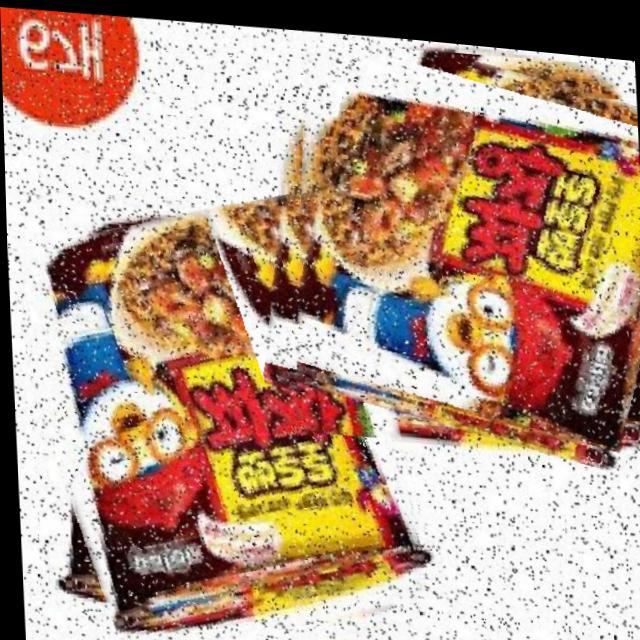Miscellaneous: (19, 175, 424, 640), (274, 25, 640, 452)
